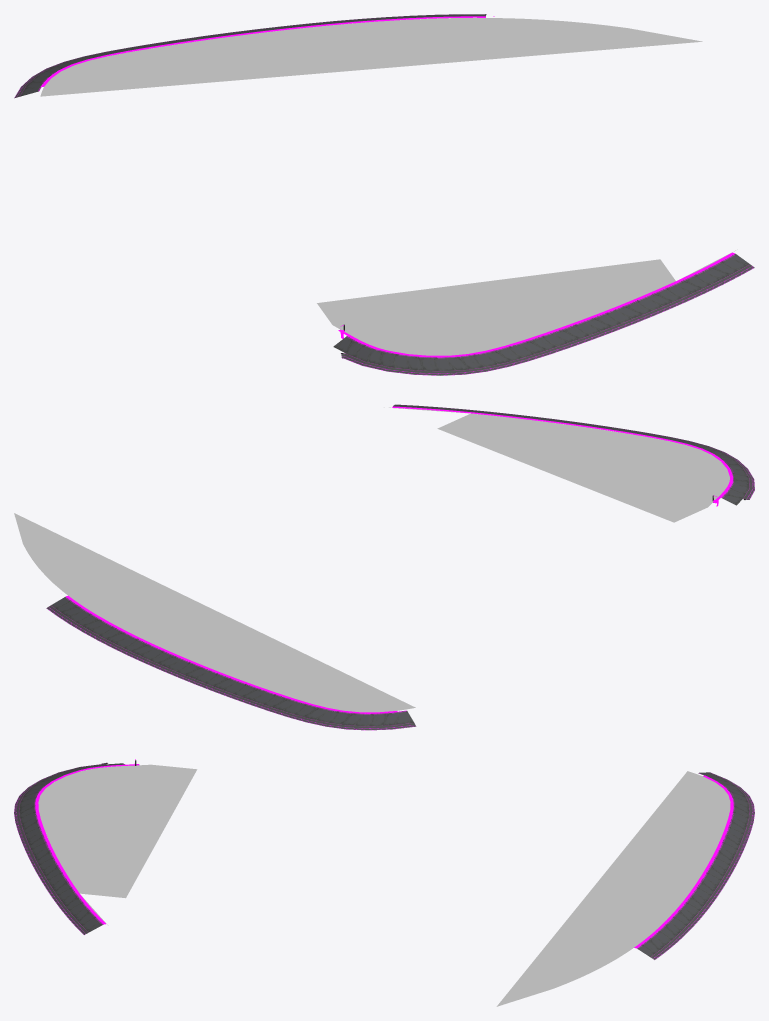
File: Egg_Shape1.fbx
3 views of the same model, one above another, from view 1: azimuth 30°, elevation 25°; view 2: azimuth 150°, elevation 25°; view 3: azimuth 270°, elevation 25° (orthographic). The views are drawn at different scales.
Visible parts, largest first — view 1: Egg_Shape; view 2: Egg_Shape; view 3: Egg_Shape.
Part boxes in pixels (x1,y1,x2,y2): Egg_Shape: [14, 14, 754, 375]; Egg_Shape: [14, 404, 754, 730]; Egg_Shape: [14, 759, 754, 1006].
Size of the model in its own units: 3234 by 74.79 by 4045.
